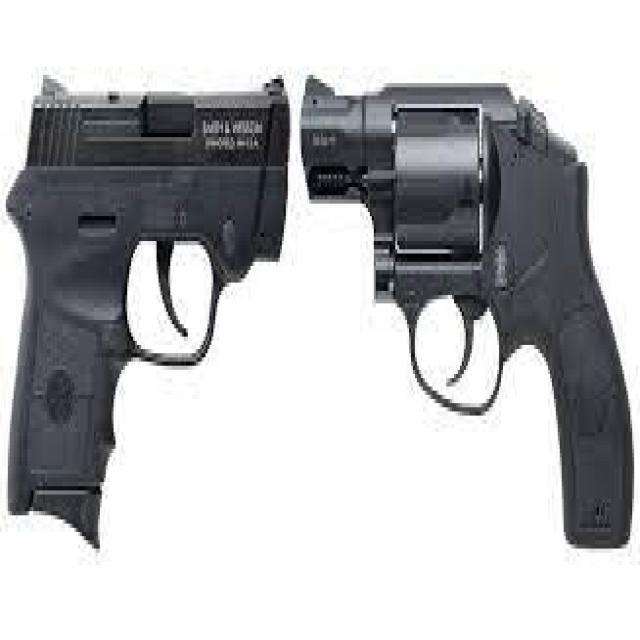semi automatic: (3, 54, 637, 581)
